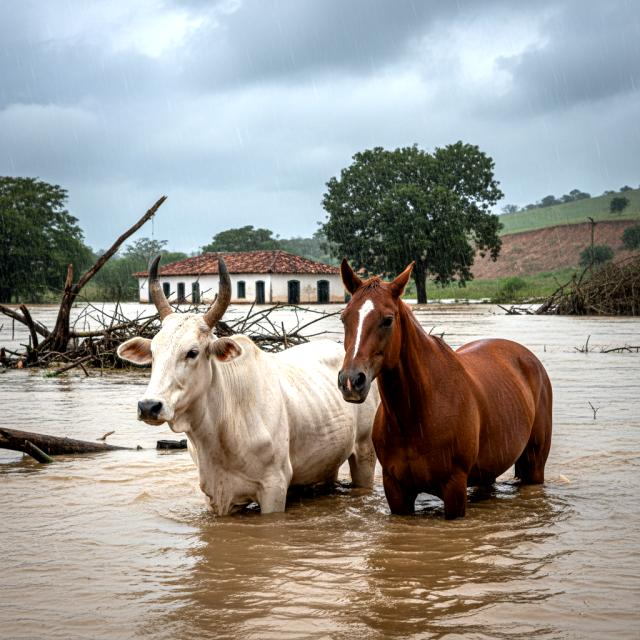cow: (108, 237, 381, 534)
horse: (324, 252, 567, 535)
